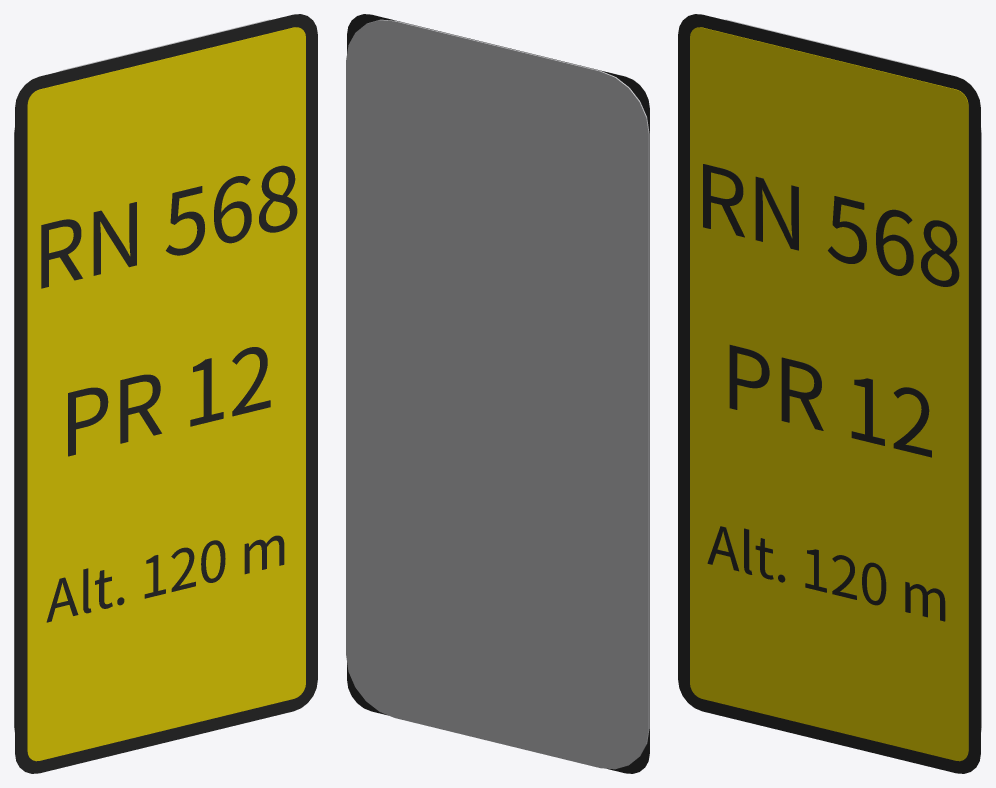
3 renders of one model, left to right at view 1: azimuth 30°, elevation 25°; view 2: azimuth 150°, elevation 25°; view 3: azimuth 330°, elevation 25°, orthographic.
Visible parts, largest first — view 1: E53b_fond01, E53b_cadre00, E53b_txt02, E53b_txt03, E53b_txt04, E53b_dos; view 2: E53b_dos, E53b_cadre00; view 3: E53b_fond01, E53b_cadre00, E53b_txt02, E53b_txt03, E53b_txt04, E53b_dos.
Boxes of the visible parts, x1=… form: E53b_fond01: x1=27, y1=27, x2=305, y2=761; E53b_cadre00: x1=15, y1=14, x2=317, y2=773; E53b_txt02: x1=41, y1=165, x2=297, y2=288; E53b_txt03: x1=68, y1=347, x2=270, y2=456; E53b_txt04: x1=46, y1=535, x2=284, y2=622; E53b_dos: x1=14, y1=19, x2=272, y2=731; E53b_dos: x1=346, y1=19, x2=649, y2=769; E53b_cadre00: x1=347, y1=14, x2=649, y2=773; E53b_fond01: x1=690, y1=27, x2=968, y2=761; E53b_cadre00: x1=678, y1=14, x2=980, y2=773; E53b_txt02: x1=703, y1=164, x2=959, y2=286; E53b_txt03: x1=729, y1=345, x2=931, y2=457; E53b_txt04: x1=707, y1=526, x2=945, y2=621; E53b_dos: x1=723, y1=19, x2=981, y2=731.
Bounding box in the file's own units: 0.25 × 0.55 × 0.0033.
